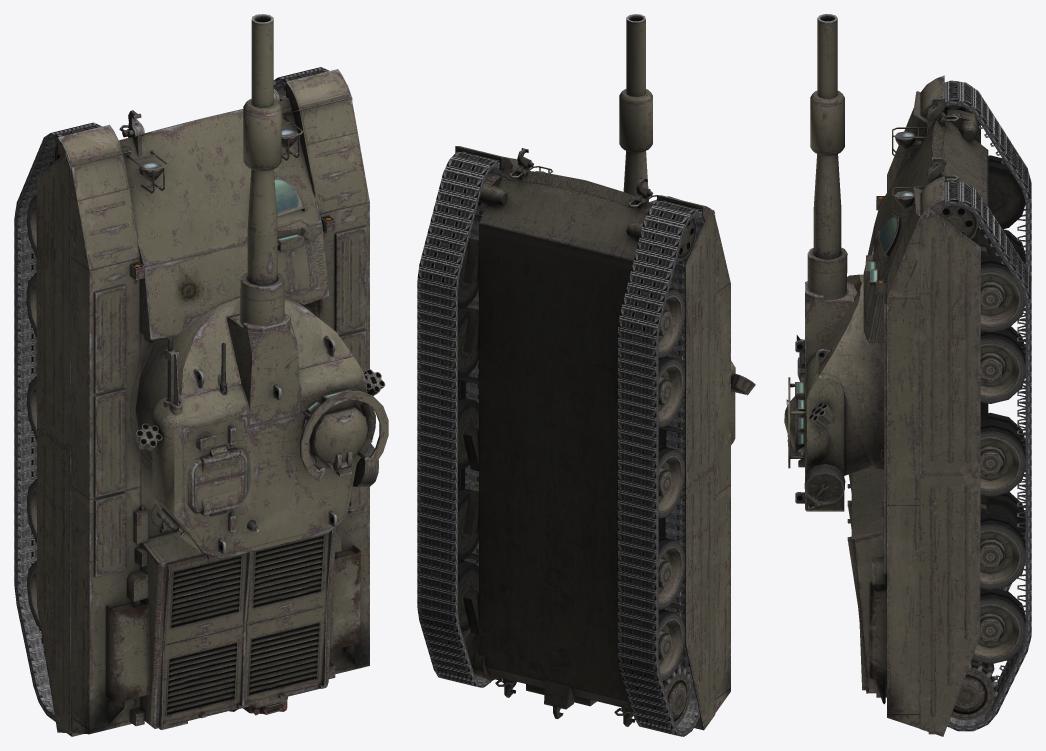
3 views of the same model, side by side, from view 1: azimuth 30°, elevation 25°; view 2: azimuth 150°, elevation 25°; view 3: azimuth 270°, elevation 25° (orthographic). The views are drawn at different scales.
Parts seen in each view (by area): view 1: hull, gun_01_mask, chassis_track_L, turret_01, gun_01; view 2: hull, chassis_track_L, chassis_track_R, gun_01, chassis_wheel_L_05, chassis_wheel_L_03, chassis_wheel_L_04, chassis_wheel_L_06, chassis_wheel_L_02, chassis_wheel_L_07, chassis_wheel_R_04, chassis_wheel_R_06 (+4 smaller); view 3: hull, gun_01_mask, chassis_track_R, gun_01, turret_01, chassis_track_L, chassis_wheel_R_06, chassis_wheel_R_05, chassis_wheel_R_04, chassis_wheel_R_03, chassis_wheel_R_02, chassis_wheel_R_07 (+3 smaller).
Part boxes in pixels (<box>): hull: <box>36,69,369,736</box>; gun_01_mask: <box>135,272,388,559</box>; chassis_track_L: <box>14,122,101,721</box>; turret_01: <box>135,297,353,460</box>; gun_01: <box>243,14,281,285</box>; hull: <box>455,146,730,730</box>; chassis_track_L: <box>618,200,704,736</box>; chassis_track_R: <box>417,151,502,687</box>; gun_01: <box>619,14,652,201</box>; chassis_wheel_L_05: <box>658,536,685,609</box>; chassis_wheel_L_03: <box>658,356,684,427</box>; chassis_wheel_L_04: <box>658,445,684,518</box>; chassis_wheel_L_06: <box>658,609,685,680</box>; chassis_wheel_L_02: <box>658,288,684,358</box>; chassis_wheel_L_07: <box>662,668,690,725</box>; chassis_wheel_R_04: <box>458,396,478,469</box>; chassis_wheel_R_06: <box>458,560,478,631</box>; hull: <box>847,75,998,736</box>; gun_01_mask: <box>784,247,872,511</box>; chassis_track_R: <box>944,181,1031,731</box>; gun_01: <box>810,14,844,258</box>; turret_01: <box>816,274,884,469</box>; chassis_track_L: <box>944,80,1031,591</box>; chassis_wheel_R_06: <box>972,589,1025,664</box>; chassis_wheel_R_05: <box>980,513,1025,590</box>; chassis_wheel_R_04: <box>980,420,1025,496</box>; chassis_wheel_R_03: <box>980,329,1025,403</box>; chassis_wheel_R_02: <box>980,255,1025,332</box>; chassis_wheel_R_07: <box>951,661,998,720</box>.
Bounding box in the file's own units: 2.93 × 7.24 × 2.46.
Materials: 2 (2 with a texture image).
